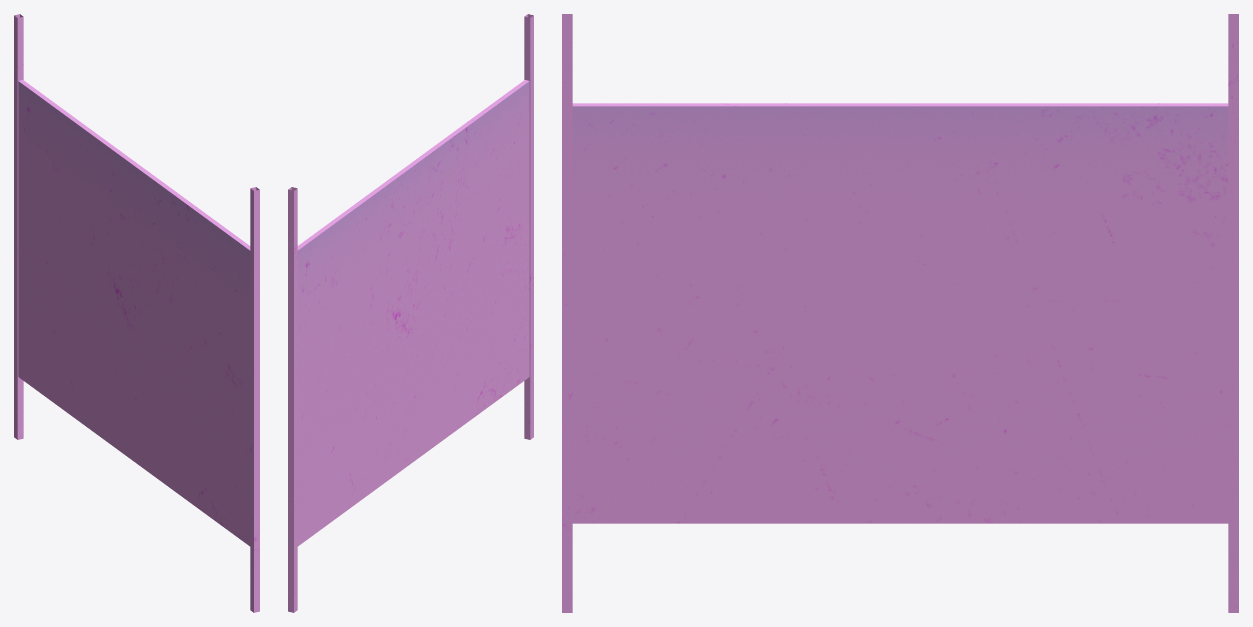
File: BathroomStall_01_SM_Low.fbx
3 renders of one model, left to right at view 1: azimuth 30°, elevation 25°; view 2: azimuth 150°, elevation 25°; view 3: azimuth 270°, elevation 25°, orthographic. The views are drawn at different scales.
Visible parts, largest first — view 1: Wall, Pole, Pole2; view 2: Wall, Pole2, Pole; view 3: Wall, Pole, Pole2.
Part boxes in pixels (x1=…): Wall: x1=18, y1=80, x2=250, y2=546; Pole: x1=250, y1=187, x2=259, y2=612; Pole2: x1=14, y1=14, x2=23, y2=439; Wall: x1=297, y1=80, x2=529, y2=546; Pole2: x1=288, y1=187, x2=297, y2=612; Pole: x1=524, y1=14, x2=533, y2=439; Wall: x1=572, y1=103, x2=1228, y2=523; Pole: x1=562, y1=14, x2=572, y2=612; Pole2: x1=1228, y1=14, x2=1238, y2=612.
Size of the model in its own units: 0.0522 by 3.6 by 3.71.
2 materials, 2 textured.
